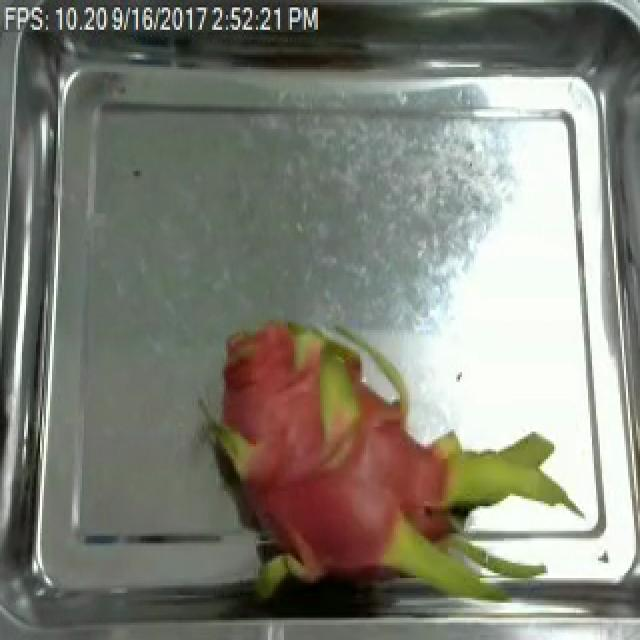fruit: (176, 288, 584, 618)
